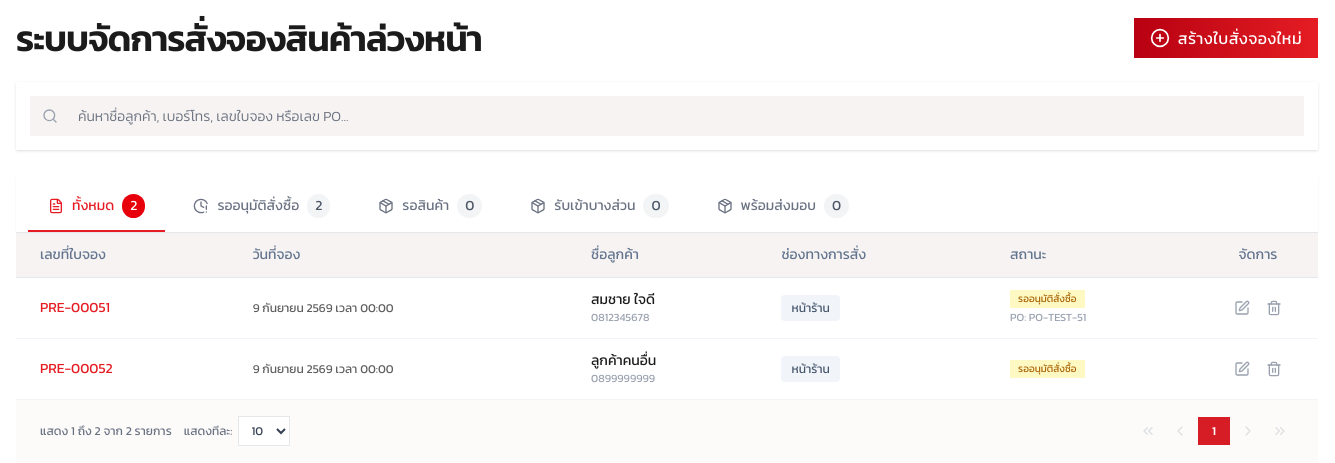
Scenario: Preorder list and navigation › finds a preorder using สมชาย
expect the text "PRE-00052" is shown: met, box [40,358,113,379]
In the field with placeholder "ค้นหาชื่อลูกค้า, เบอร์โทร, เลขใบจอง หรือเลข PO...": [667, 116] box [30,96,1304,136], type "สมชาย"
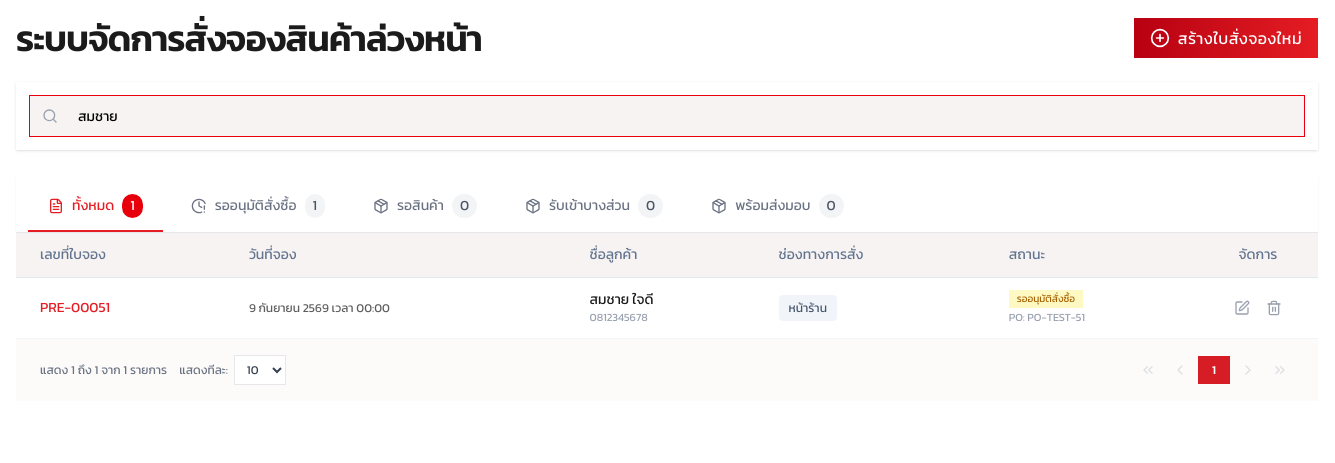
expect the text "PRE-00051" is shown: met, box [40,297,110,318]
expect the text "PRE-00052" is gone: met
